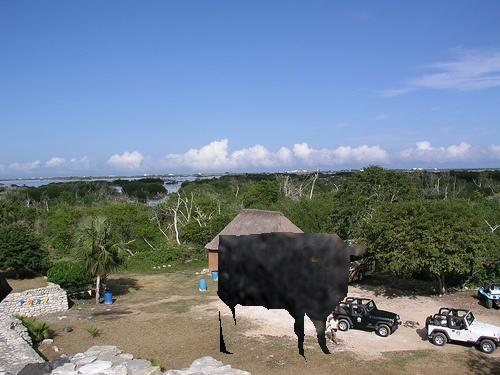tampered: (218, 233, 366, 363)
